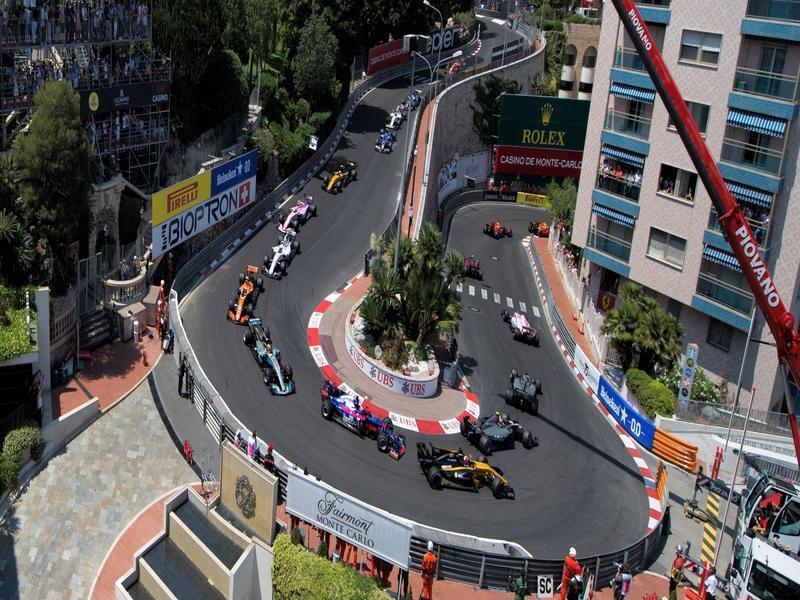f1: (317, 373, 408, 467), (420, 433, 518, 497), (239, 313, 301, 394), (460, 408, 550, 452), (229, 264, 267, 325), (279, 189, 326, 236), (504, 363, 544, 418), (259, 234, 298, 282), (503, 305, 542, 347), (318, 161, 362, 193), (370, 119, 399, 156), (479, 216, 518, 240), (461, 250, 480, 284)
